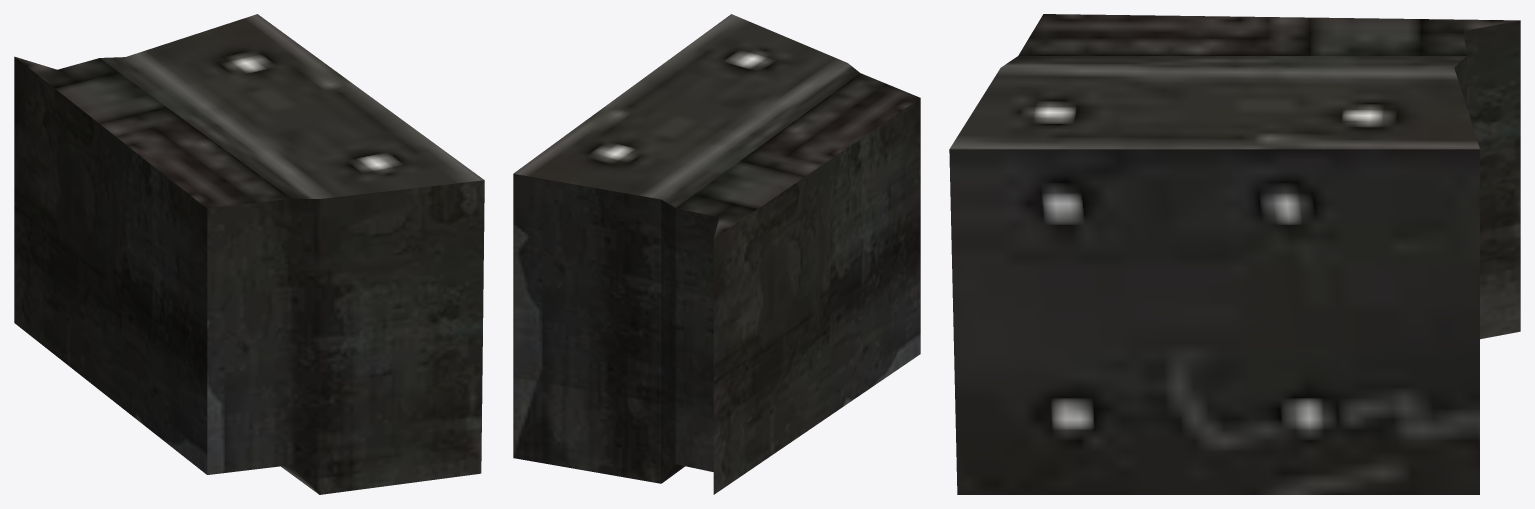
The model's file is piece01_08.glb.
3 renders of one model, left to right at view 1: azimuth 30°, elevation 25°; view 2: azimuth 150°, elevation 25°; view 3: azimuth 270°, elevation 25°, orthographic. The views are drawn at different scales.
Parts seen in each view (by area): view 1: model_piece01_08; view 2: model_piece01_08; view 3: model_piece01_08.
Part boxes in pixels (x1,y1,x2,y2): model_piece01_08: (14, 14, 484, 494); model_piece01_08: (513, 14, 920, 494); model_piece01_08: (949, 14, 1520, 494).
Size of the model in its own units: 0.4282 by 0.5103 by 0.7641.
1 material, 1 textured.
